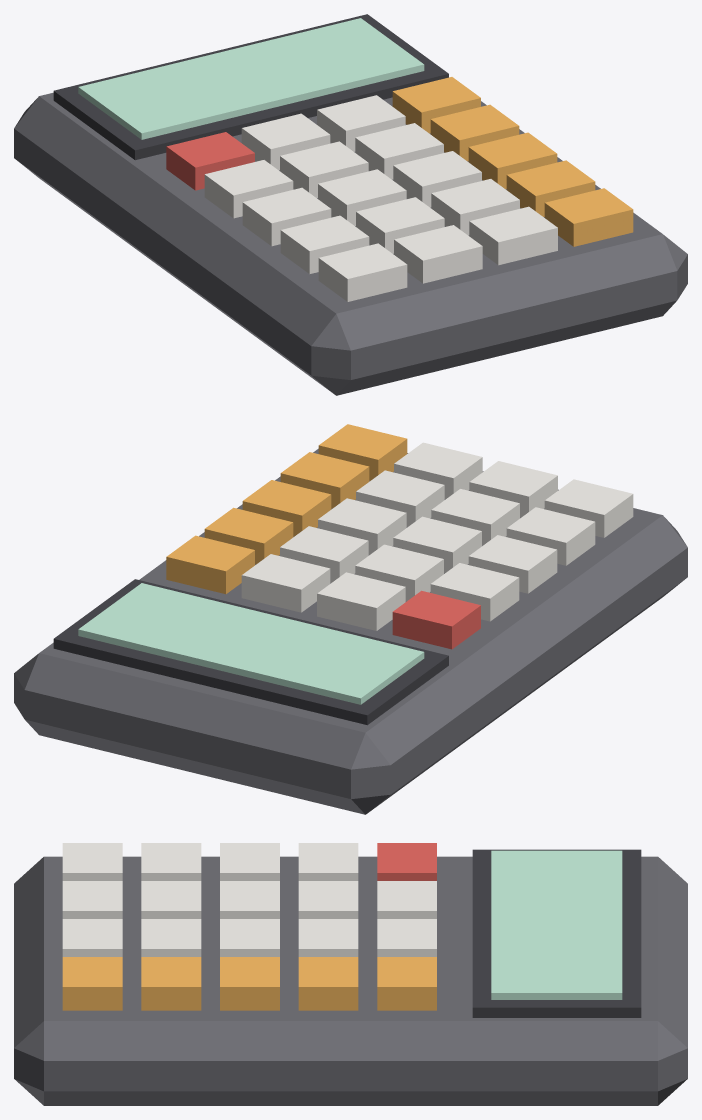
Rendered from prop_calculator_01.glb.
The picture shows the model from 3 angles, top to bottom: view 1: azimuth 30°, elevation 25°; view 2: azimuth 150°, elevation 25°; view 3: azimuth 270°, elevation 25°; orthographic projection. The views are drawn at different scales.
Parts seen in each view (by area): view 1: prop_calculator_01_body; view 2: prop_calculator_01_body; view 3: prop_calculator_01_body.
Boxes of the visible parts, <box> form: prop_calculator_01_body: <box>14,14,687,395</box>; prop_calculator_01_body: <box>14,424,687,814</box>; prop_calculator_01_body: <box>14,843,687,1105</box>.
Bounding box in the file's own units: 0.12 × 0.032 × 0.18.
